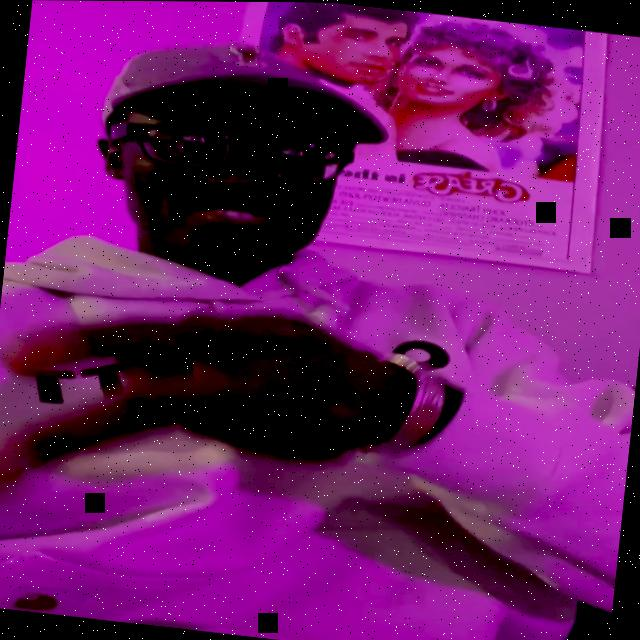Scissors: (0, 279, 436, 535)
